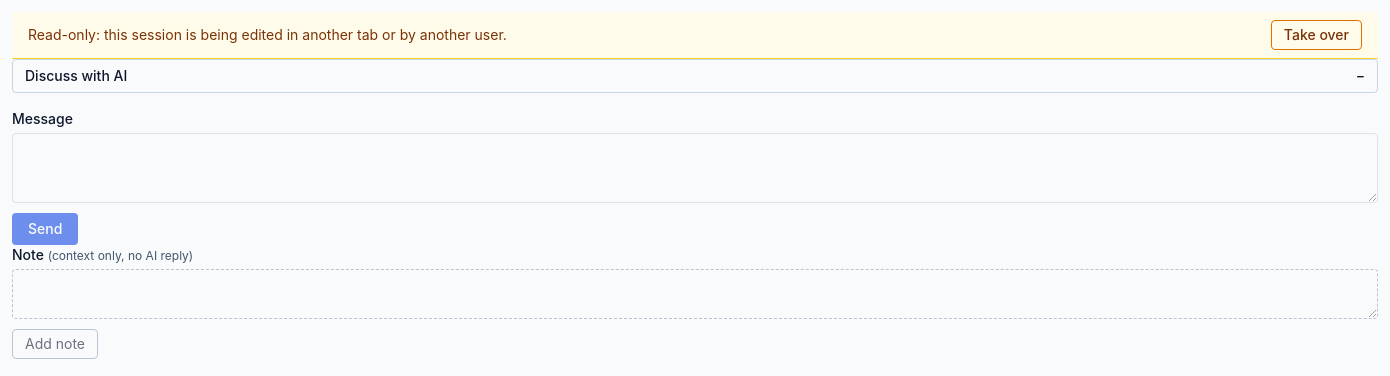
Scenario: workspace session lock › Take over moves the lock to this tab and re-enables the controls
The width and height of the screenshot is (1390, 376).
Click the button "Take over" at (1316, 35), box top-left (1271, 20), bottom-right (1362, 50)
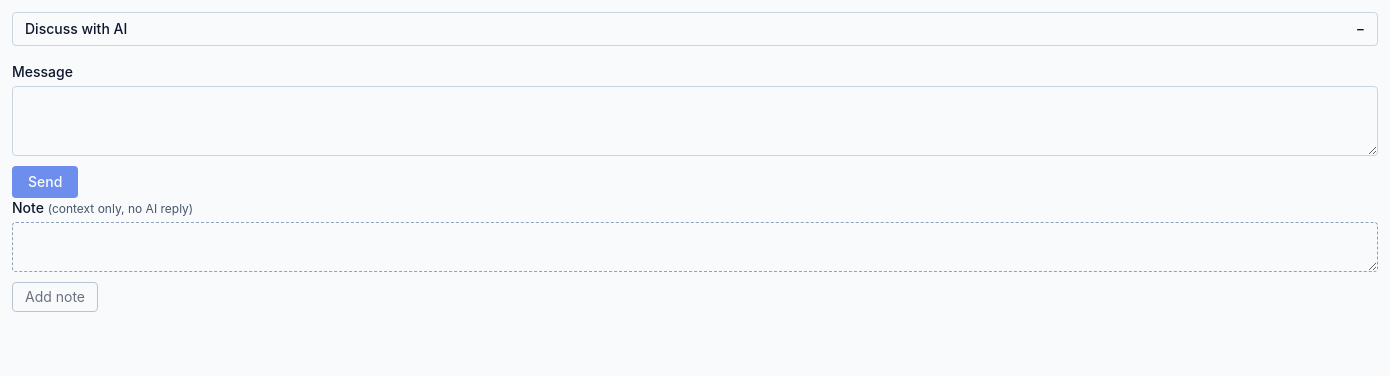
expect the button "Take over" is gone: met
expect the text box labelled "Message" is enabled: met, box top-left (12, 86), bottom-right (1378, 156)
expect the text box labelled "Note (context only, no AI reply)" is enabled: met, box top-left (12, 222), bottom-right (1378, 272)
